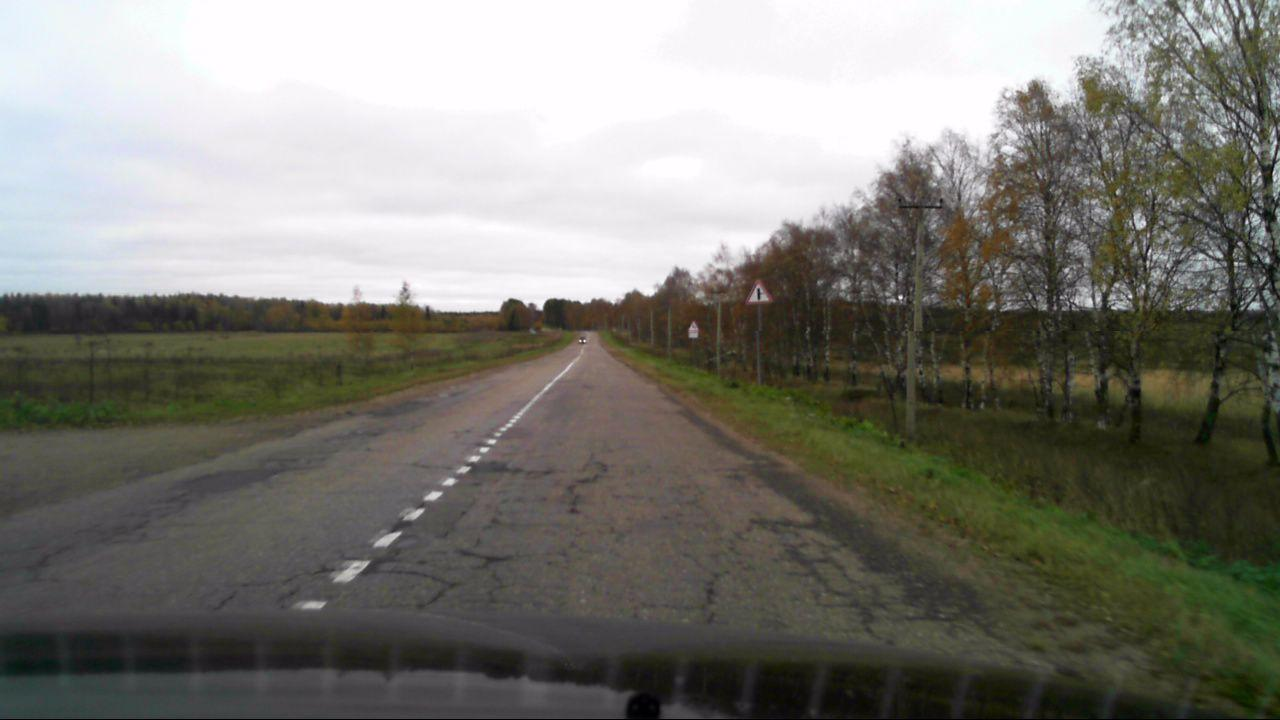road_sign: (741, 275, 776, 304)
